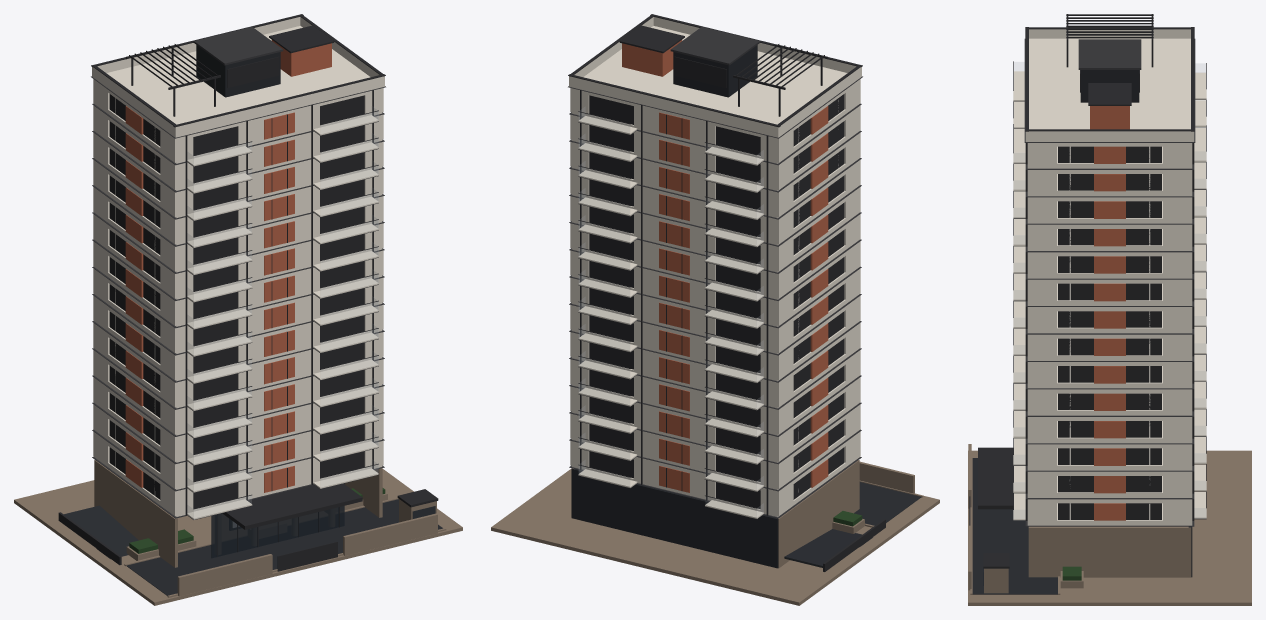
File: Aarohan_Tower_G14.glb
3 renders of one model, left to right at view 1: azimuth 30°, elevation 25°; view 2: azimuth 150°, elevation 25°; view 3: azimuth 270°, elevation 25°, orthographic.
Parts seen in each view (by area): view 1: Roof_Terrace_Slab, Podium_Ground_Plaza, Podium_Arrival_Driveway, Lobby_West_Wall, Lobby_Glass_Curtain_Wall, Canopy_Bronze_Fascia, Roof_Parapet_South, Boundary_Wall_Left, LMR_Roof_Cap, Boundary_Wall_Right, LMR_Main_Structure, Vehicular_Ramp_Slab (+52 smaller); view 2: Podium_Ground_Plaza, Lobby_Rear_Wall, Roof_Terrace_Slab, Lobby_West_Wall, Roof_Parapet_North, LMR_Roof_Cap, LMR_Main_Structure, Podium_Arrival_Driveway, Vehicular_Ramp_Slab, Overhead_Water_Tank_Enclosure, Roof_Parapet_South, Boundary_Wall_Left (+48 smaller); view 3: Podium_Ground_Plaza, Roof_Terrace_Slab, Lobby_East_Wall, Podium_Arrival_Driveway, Canopy_Bronze_Fascia, LMR_Roof_Cap, Roof_Parapet_East, Roof_Parapet_West, LMR_Main_Structure, OHT_Fascia_Cap, Level_05_Sill_East, Level_07_Sill_East (+104 smaller).
Part boxes in pixels (bbox=[...]): Roof_Terrace_Slab: bbox=[92, 26, 384, 137]; Podium_Ground_Plaza: bbox=[14, 469, 462, 605]; Podium_Arrival_Driveway: bbox=[126, 499, 442, 595]; Lobby_West_Wall: bbox=[94, 460, 177, 567]; Lobby_Glass_Curtain_Wall: bbox=[211, 483, 344, 558]; Canopy_Bronze_Fascia: bbox=[222, 483, 362, 529]; Roof_Parapet_South: bbox=[174, 76, 384, 136]; Boundary_Wall_Left: bbox=[177, 554, 272, 596]; LMR_Roof_Cap: bbox=[193, 27, 283, 65]; Boundary_Wall_Right: bbox=[343, 513, 437, 555]; LMR_Main_Structure: bbox=[196, 45, 280, 97]; Vehicular_Ramp_Slab: bbox=[64, 505, 138, 559]; Podium_Ground_Plaza: bbox=[491, 469, 939, 605]; Lobby_Rear_Wall: bbox=[571, 468, 778, 568]; Roof_Terrace_Slab: bbox=[569, 26, 861, 137]; Lobby_West_Wall: bbox=[778, 460, 859, 568]; Roof_Parapet_North: bbox=[569, 76, 779, 136]; LMR_Roof_Cap: bbox=[670, 27, 760, 65]; LMR_Main_Structure: bbox=[673, 45, 757, 97]; Podium_Arrival_Driveway: bbox=[854, 482, 921, 525]; Vehicular_Ramp_Slab: bbox=[784, 529, 872, 567]; Overhead_Water_Tank_Enclosure: bbox=[622, 40, 682, 76]; Roof_Parapet_South: bbox=[653, 17, 861, 76]; Boundary_Wall_Left: bbox=[859, 461, 914, 493]; Podium_Ground_Plaza: bbox=[968, 450, 1251, 605]; Roof_Terrace_Slab: bbox=[1025, 38, 1194, 141]; Lobby_East_Wall: bbox=[1028, 526, 1191, 577]; Podium_Arrival_Driveway: bbox=[972, 458, 1057, 594]; Canopy_Bronze_Fascia: bbox=[978, 447, 1013, 509]; LMR_Roof_Cap: bbox=[1078, 39, 1141, 69]; Roof_Parapet_East: bbox=[1028, 131, 1191, 140]; Roof_Parapet_West: bbox=[1029, 29, 1190, 38]; LMR_Main_Structure: bbox=[1080, 70, 1139, 102]; OHT_Fascia_Cap: bbox=[1088, 83, 1131, 105]; Level_05_Sill_East: bbox=[1027, 409, 1192, 415]; Level_07_Sill_East: bbox=[1027, 354, 1192, 360].
Size of the model in its own units: 38 by 55.55 by 30.
